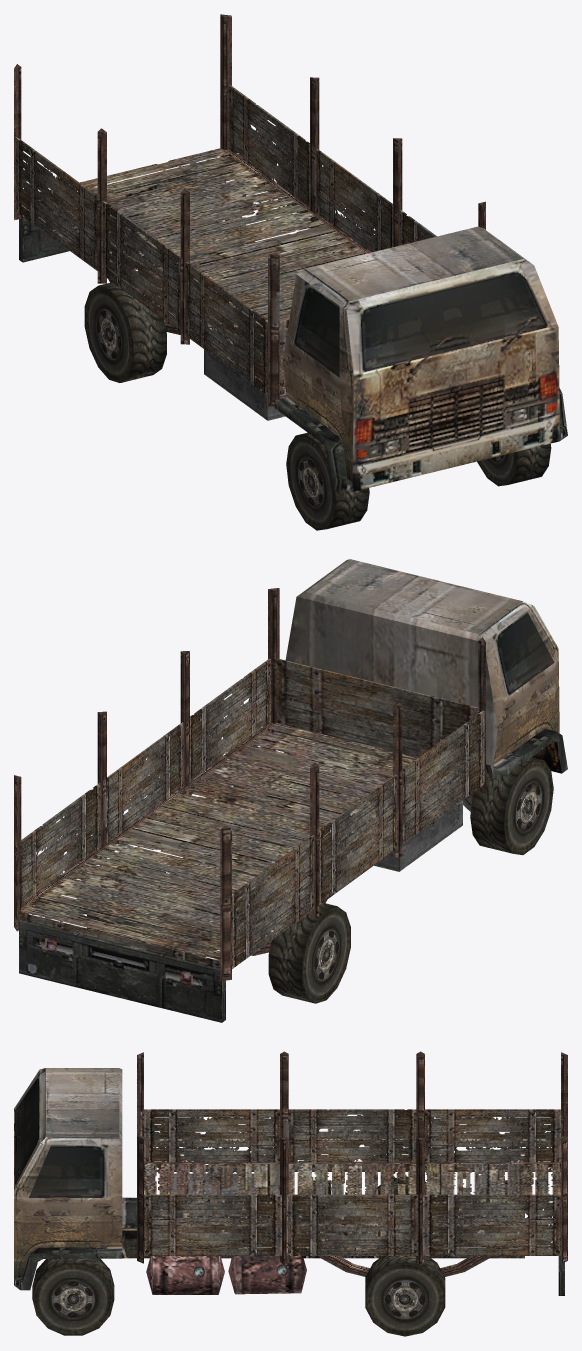
Rendered from etrck1.glb.
The picture shows the model from 3 angles, top to bottom: view 1: azimuth 30°, elevation 25°; view 2: azimuth 150°, elevation 25°; view 3: azimuth 270°, elevation 25°; orthographic projection. The views are drawn at different scales.
Visible parts, largest first — view 1: _etrck1; view 2: _etrck1; view 3: _etrck1.
Part boxes in pixels (x1,y1,x2,y2): _etrck1: (14,14,567,530); _etrck1: (14,559,567,1022); _etrck1: (14,1051,567,1336).
Bounding box in the file's own units: 3.1 × 3.09 × 7.83.
2 materials, 2 textured.
